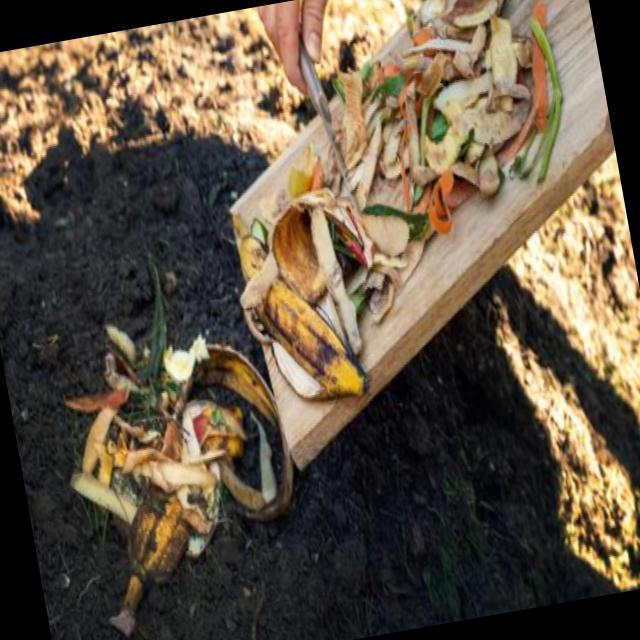paper: (215, 183, 386, 437), (101, 445, 238, 626), (520, 0, 596, 204), (304, 500, 414, 638)
